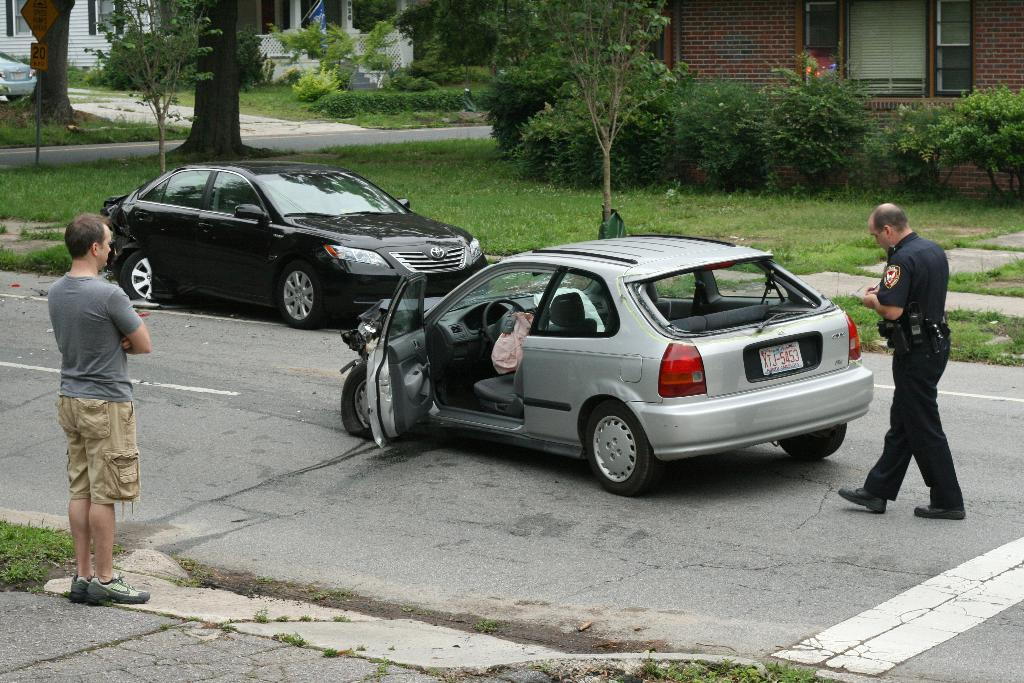Car: (339, 233, 874, 496), (99, 159, 488, 330), (0, 51, 37, 102)
